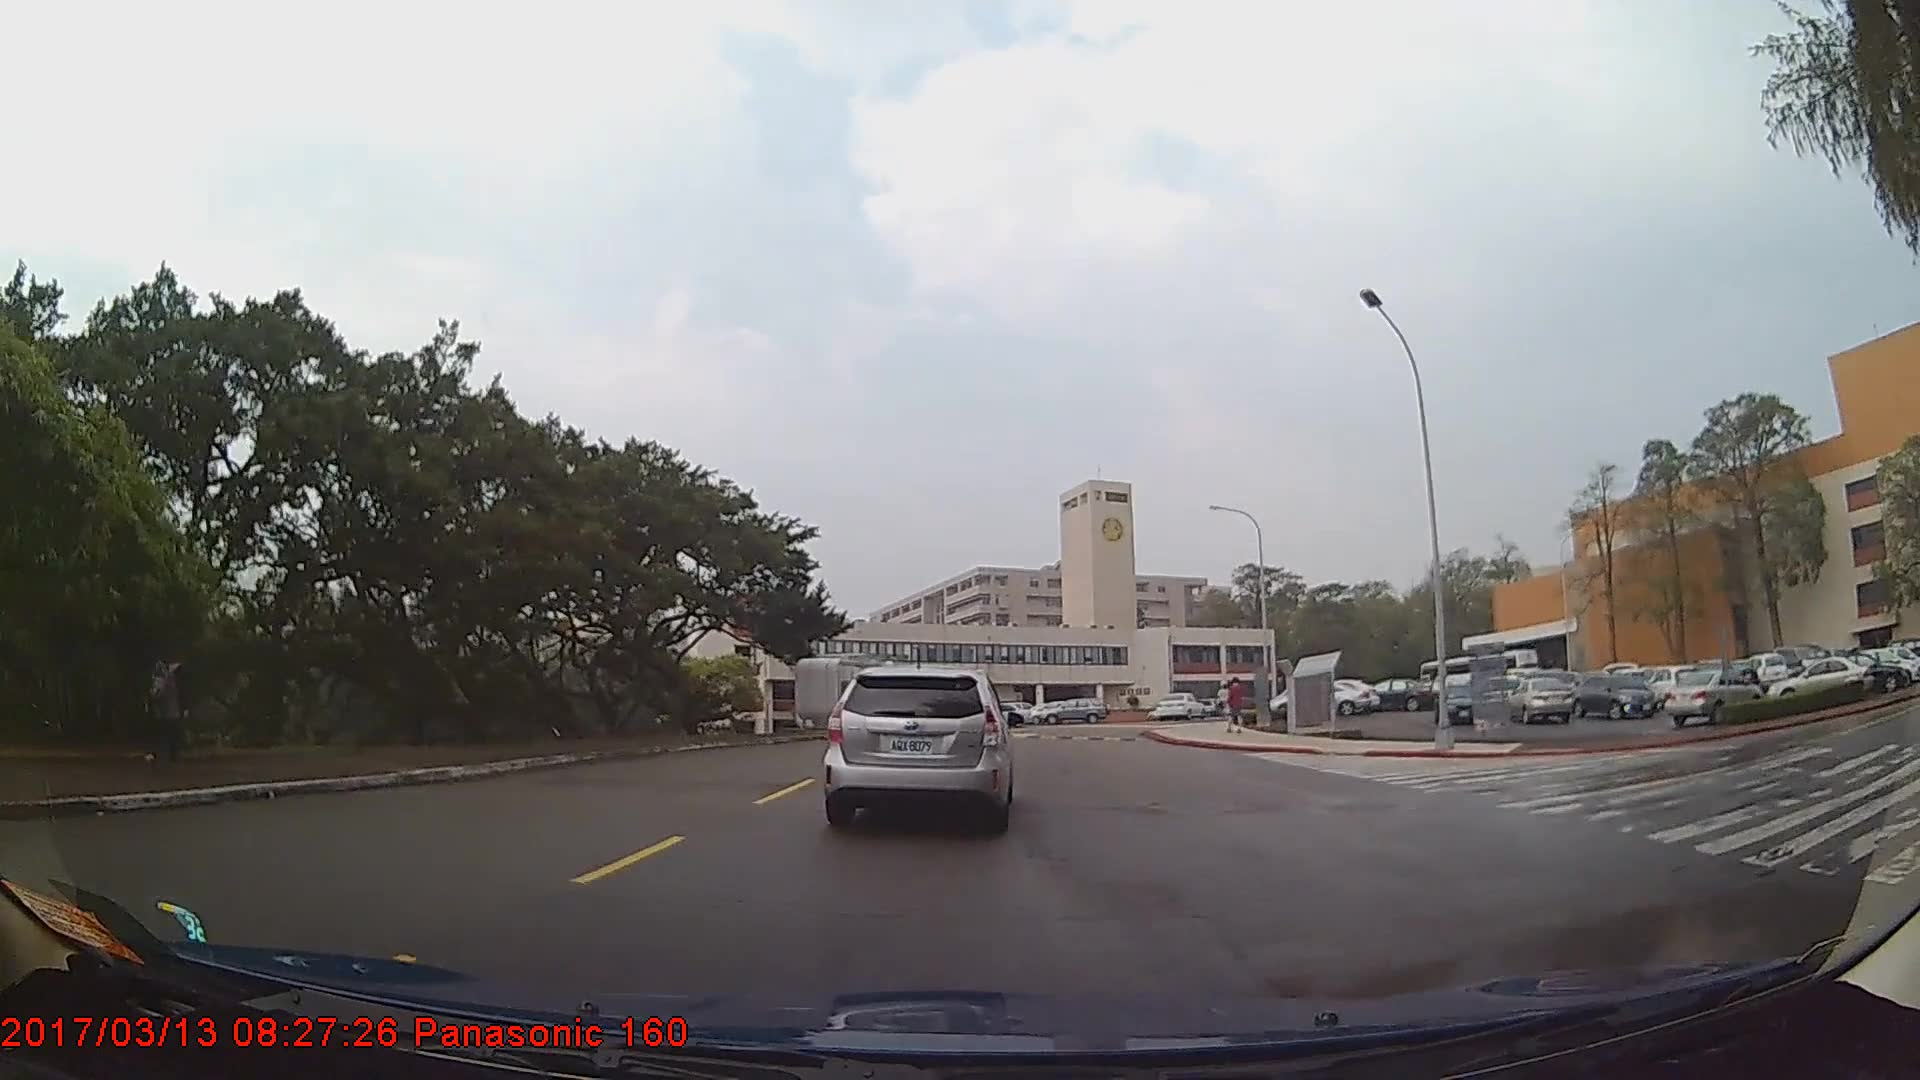pedestrian: (141, 638, 197, 767), (1226, 678, 1248, 735)
vehicle: (821, 663, 1010, 830), (1664, 665, 1763, 727), (1767, 655, 1873, 704), (1814, 648, 1907, 696), (1576, 672, 1659, 721), (1506, 674, 1576, 726), (1359, 677, 1433, 712), (1436, 680, 1490, 722), (1037, 696, 1110, 724), (1152, 690, 1205, 721)
